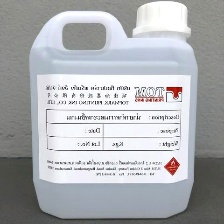cleaning_solution: (26, 0, 201, 223)
